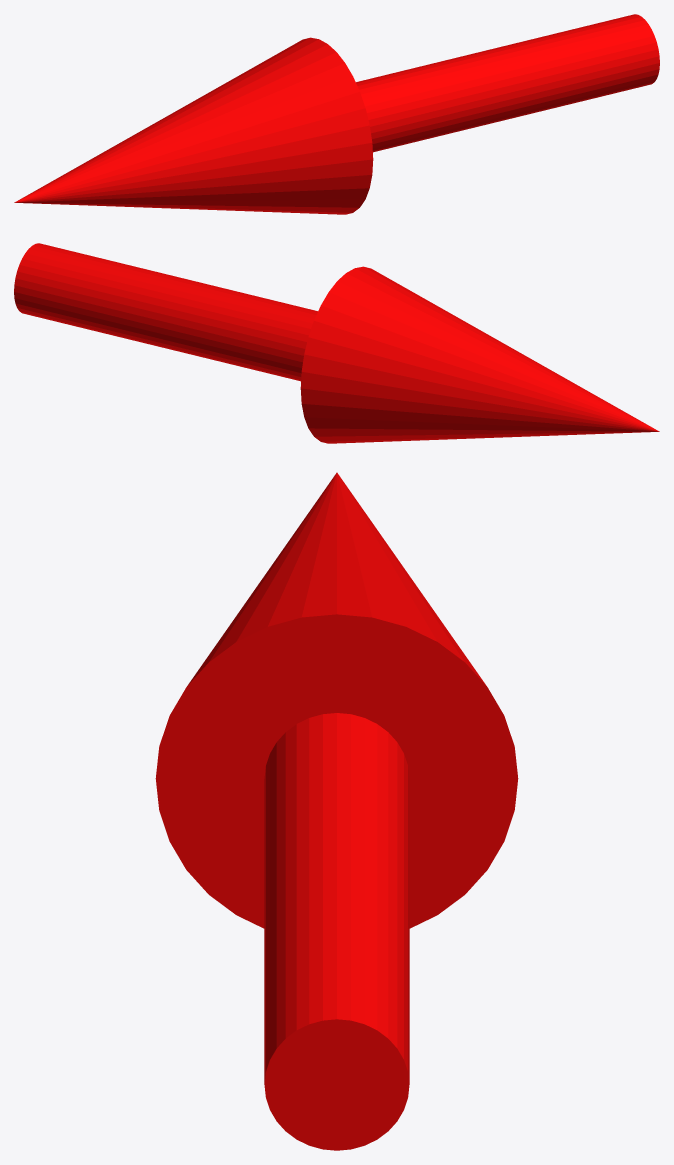
The model's file is arrow.glb.
3 views of the same model, one above another, from view 1: azimuth 30°, elevation 25°; view 2: azimuth 150°, elevation 25°; view 3: azimuth 270°, elevation 25° (orthographic). The views are drawn at different scales.
Visible parts, largest first — view 1: Cone, Cylinder; view 2: Cone, Cylinder; view 3: Cone, Cylinder.
Part boxes in pixels (left/top/right/bottom): Cone: left=14, top=37, right=373, bottom=214; Cylinder: left=356, top=14, right=659, bottom=152; Cone: left=300, top=266, right=659, bottom=443; Cylinder: left=14, top=243, right=317, bottom=381; Cone: left=155, top=472, right=518, bottom=928; Cylinder: left=264, top=713, right=409, bottom=1150.
Bounding box in the file's own units: 200 × 50 × 50.
